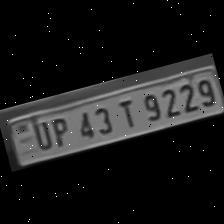2: (154, 82, 182, 120), (171, 78, 199, 114)
3: (86, 100, 116, 138)
4: (68, 106, 96, 142)
9: (134, 88, 164, 124), (190, 72, 218, 108)
P: (44, 111, 74, 150)
T: (110, 94, 141, 132)
U: (26, 116, 56, 154)
